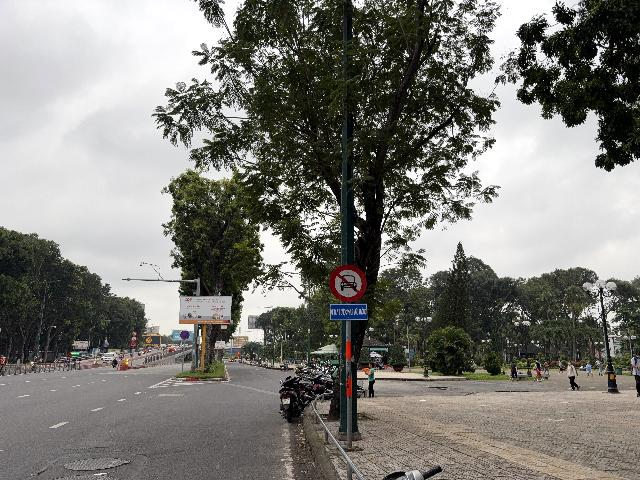cam-o-to: (330, 264, 366, 303)
